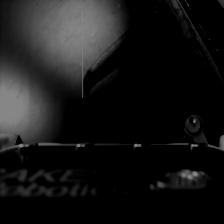Door Handle: (82, 10, 183, 98)
